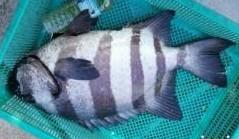fish: (8, 8, 233, 128)
